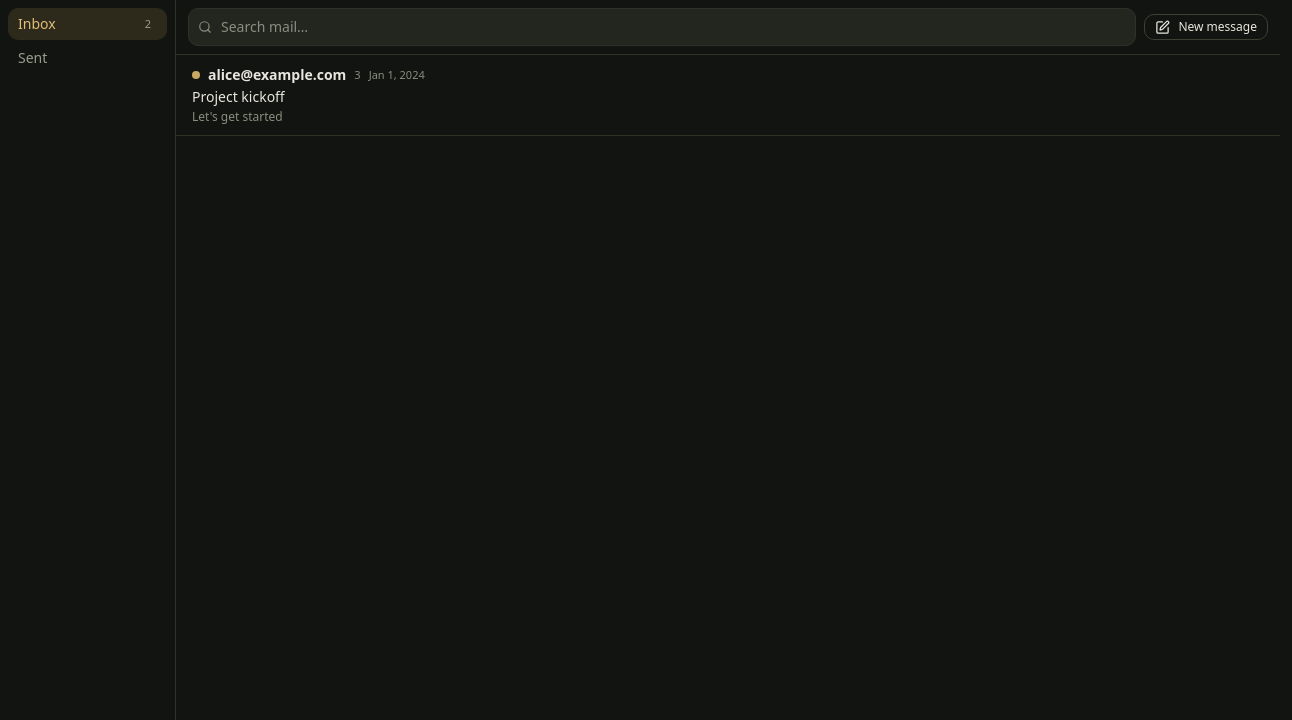
it: surfaces a thread-open error (not the silent list) with a Back control
Click the text "Project kickoff" at (238, 97), box [192,87,285,107]
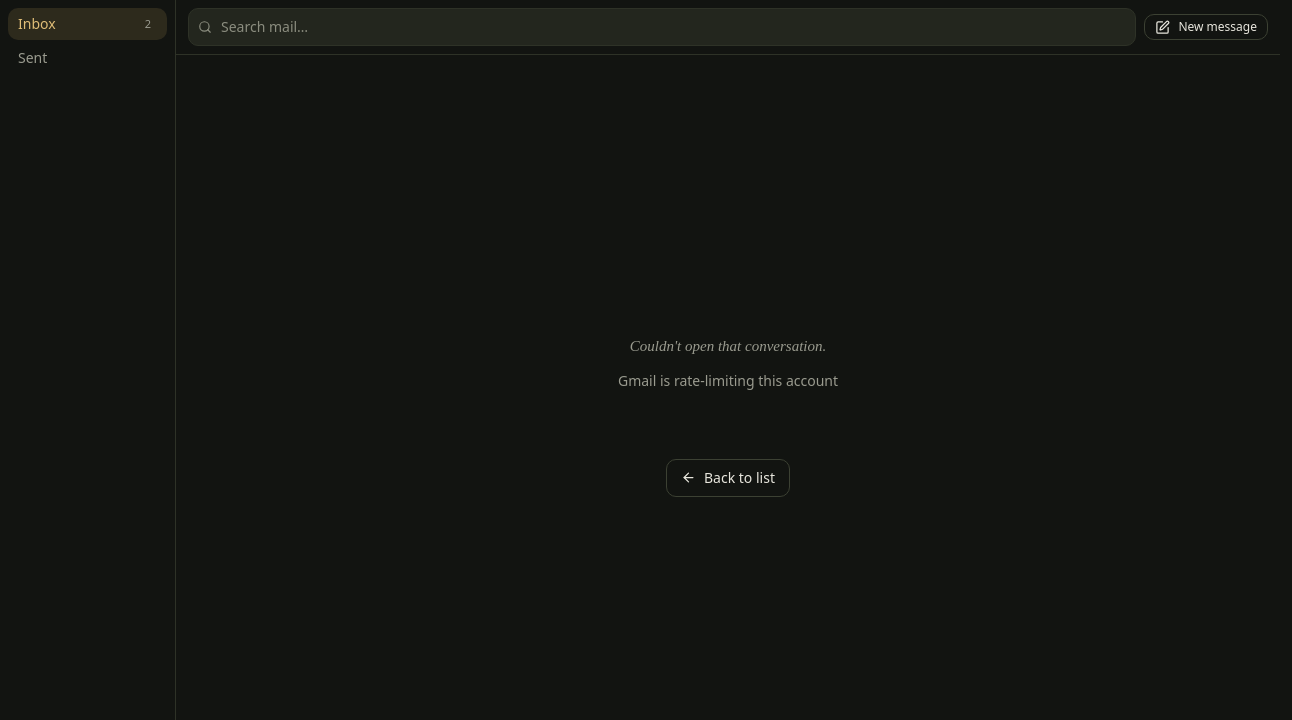
Expected: the text "Gmail is rate-limiting this account" is shown, [618,371,838,391]
Note: Back clears the failed thread id and returns to the list (a re-open would refetch).
Click the button "Back to list" at (728, 478), box [666,459,790,497]
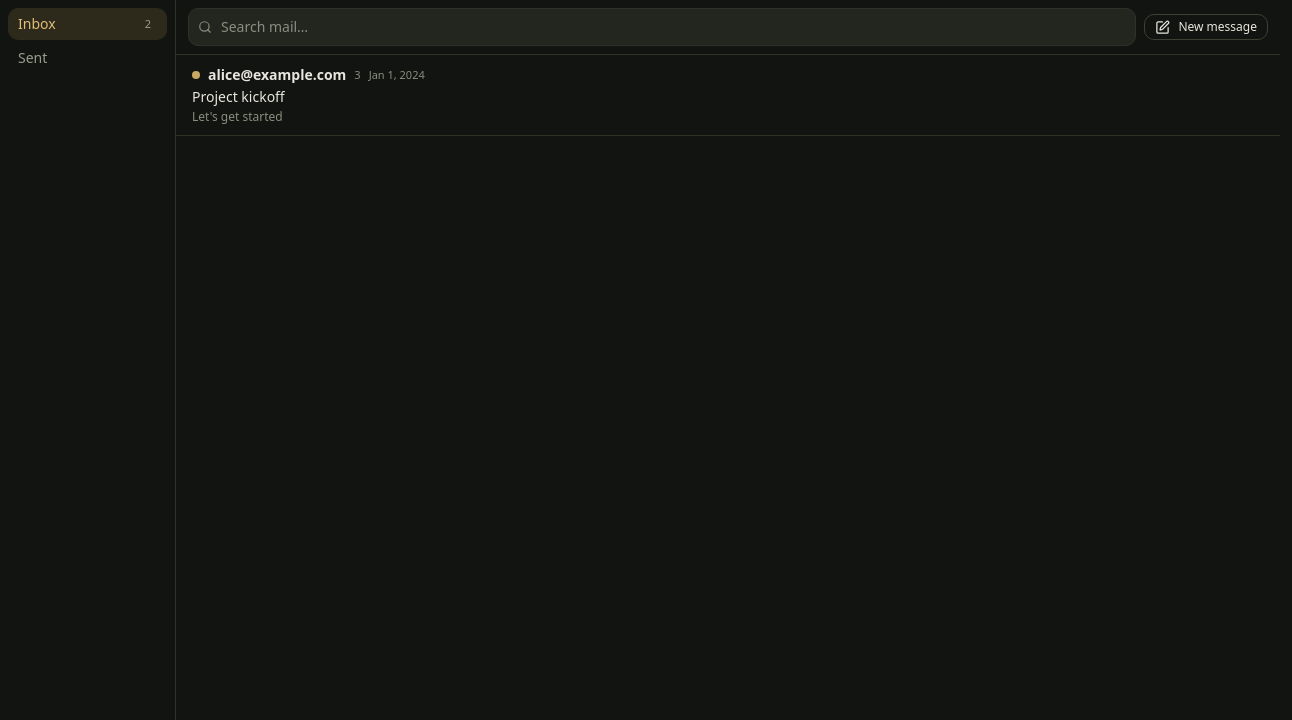
Expected: the text "Project kickoff" is shown, [192,87,285,107]
